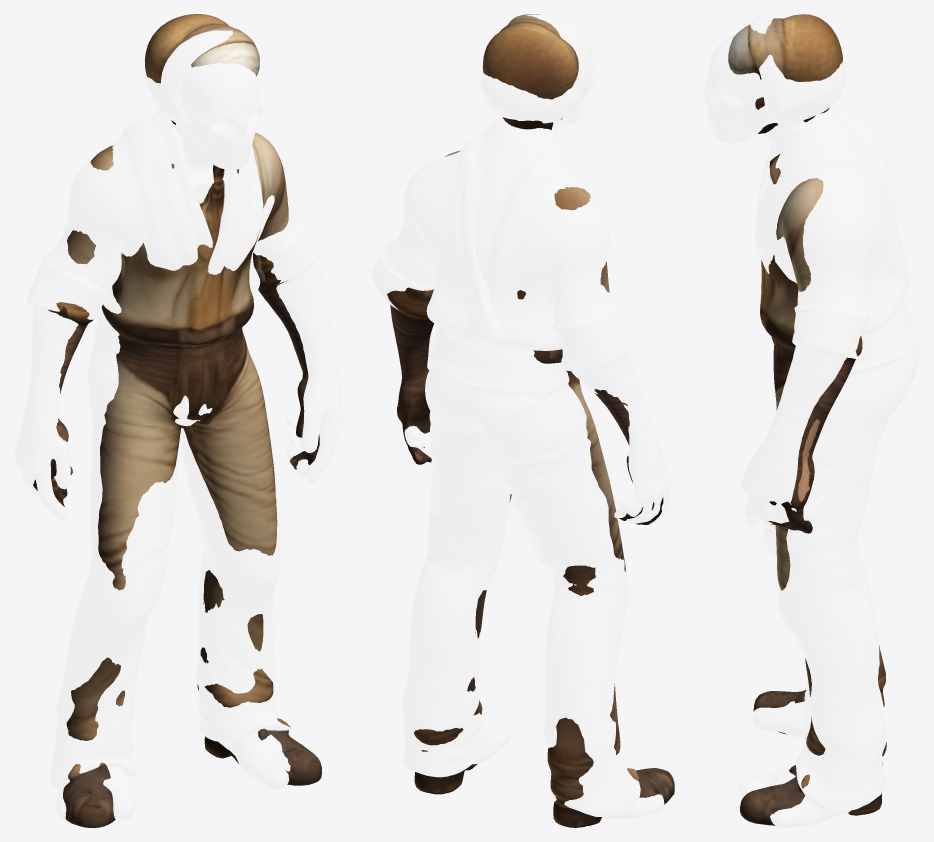
Rendered from mummy_wrapped.glb.
3 views of the same model, side by side, from view 1: azimuth 30°, elevation 25°; view 2: azimuth 150°, elevation 25°; view 3: azimuth 270°, elevation 25° (orthographic). The views are drawn at different scales.
Parts seen in each view (by area): view 1: Outfit, Body; view 2: Outfit, Body; view 3: Outfit, Body.
Boxes of the visible parts, box(x1,y1,x2,y2) form: Outfit: box(14, 30, 343, 820); Body: box(33, 14, 321, 827); Outfit: box(372, 14, 672, 819); Body: box(387, 14, 674, 827); Outfit: box(703, 14, 919, 827); Body: box(728, 14, 886, 825).
Bounding box in the file's own units: 0.7537 × 1.86 × 0.4792.
Materials: 2 (1 with a texture image).
